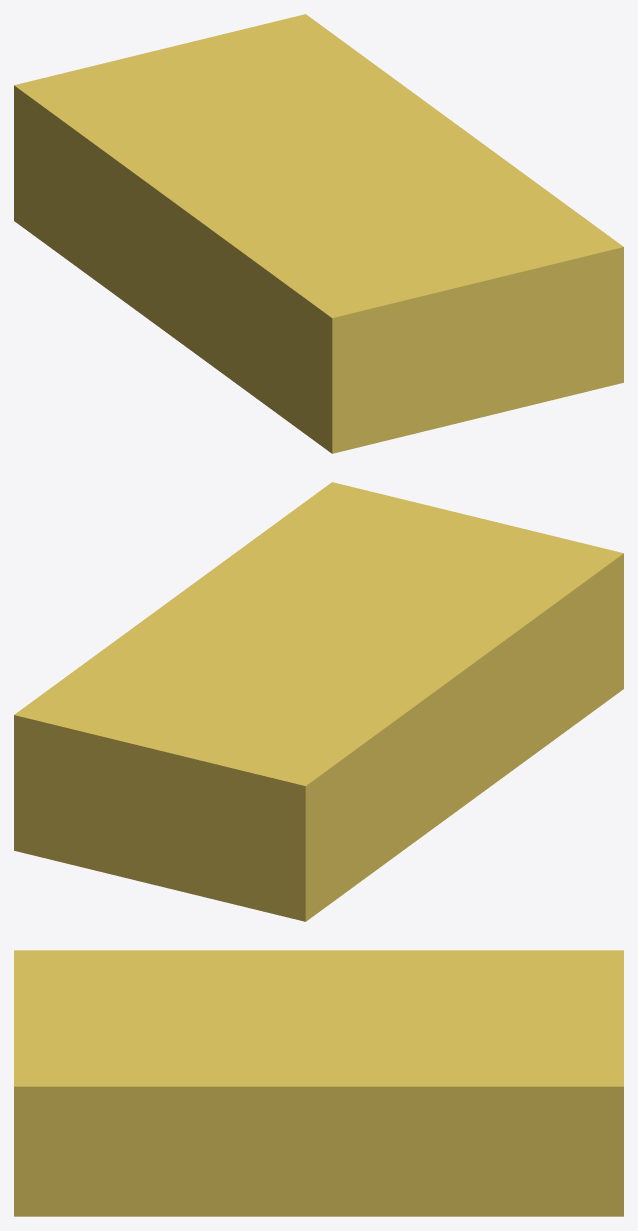
File: kart.glb
3 views of the same model, one above another, from view 1: azimuth 30°, elevation 25°; view 2: azimuth 150°, elevation 25°; view 3: azimuth 270°, elevation 25° (orthographic). The views are drawn at different scales.
Visible parts, largest first — view 1: box; view 2: box; view 3: box.
Part boxes in pixels (<box>): box: <box>14,14,623,453</box>; box: <box>14,482,623,921</box>; box: <box>14,950,623,1216</box>.
Size of the model in its own units: 1.8 by 0.8 by 3.4.
